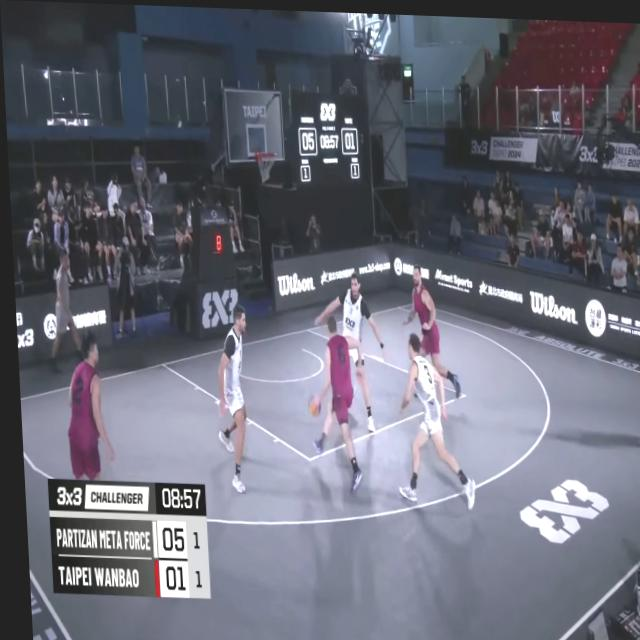ball: (303, 388, 319, 416)
hoop: (255, 145, 276, 181)
player: (386, 330, 467, 508), (301, 312, 367, 498), (56, 328, 115, 534), (311, 270, 386, 432), (394, 265, 459, 399), (208, 304, 254, 493)
